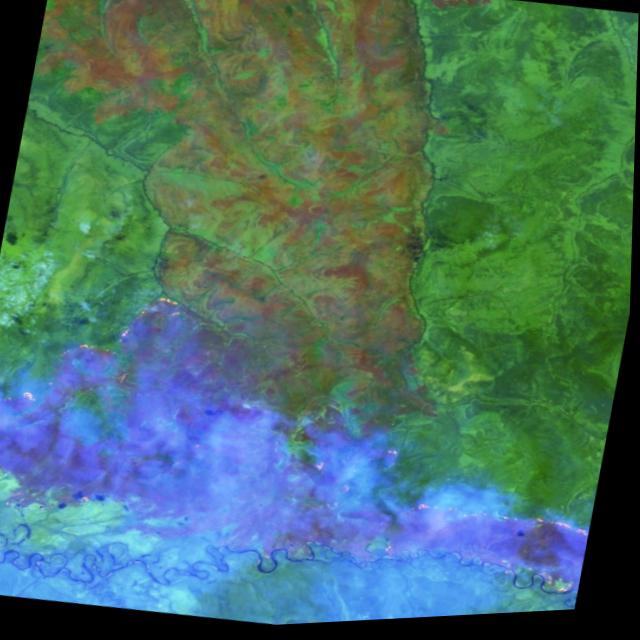fire: (273, 426, 604, 618), (112, 287, 199, 345), (52, 332, 127, 380), (0, 382, 44, 424)
